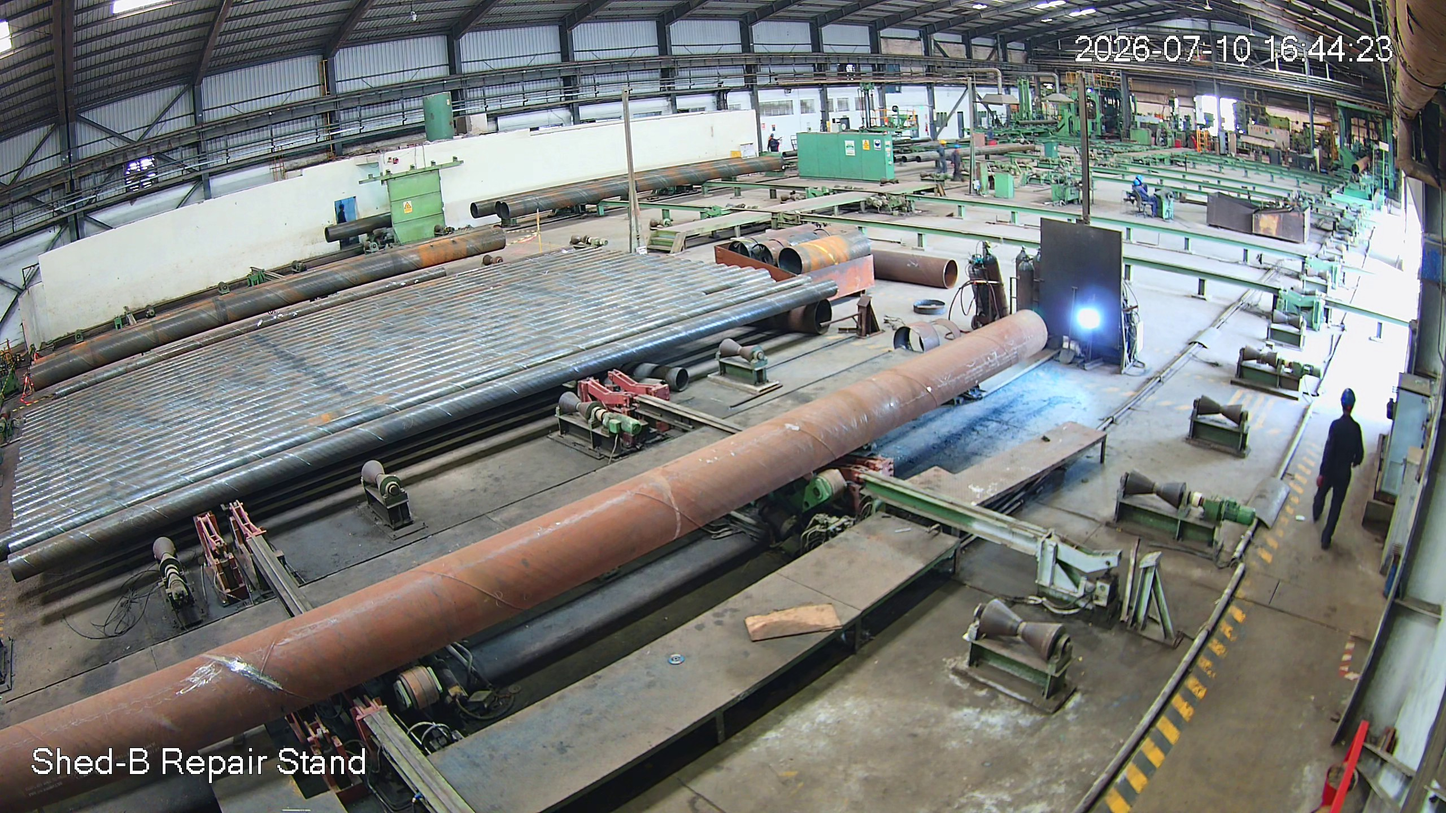Helmet: (1333, 379, 1382, 427)
Person: (1307, 389, 1366, 545)
